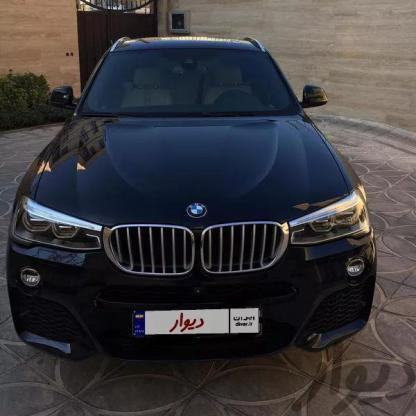Car: (4, 23, 364, 382)
